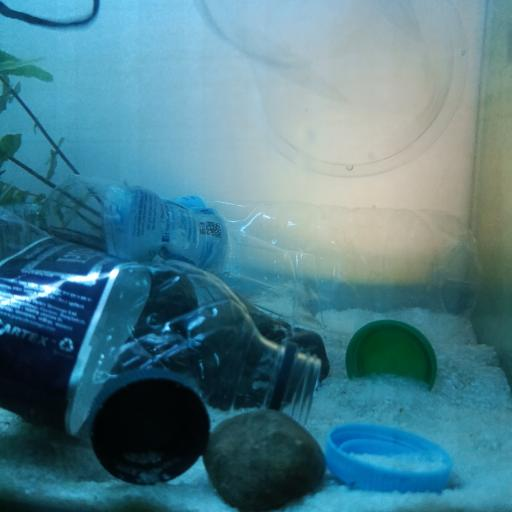bottle_cap: (90, 371, 210, 486), (322, 423, 450, 489), (343, 320, 440, 387)
plastic_bottle: (0, 173, 485, 346), (0, 203, 324, 437)
plastic_cup: (191, 2, 469, 178)
